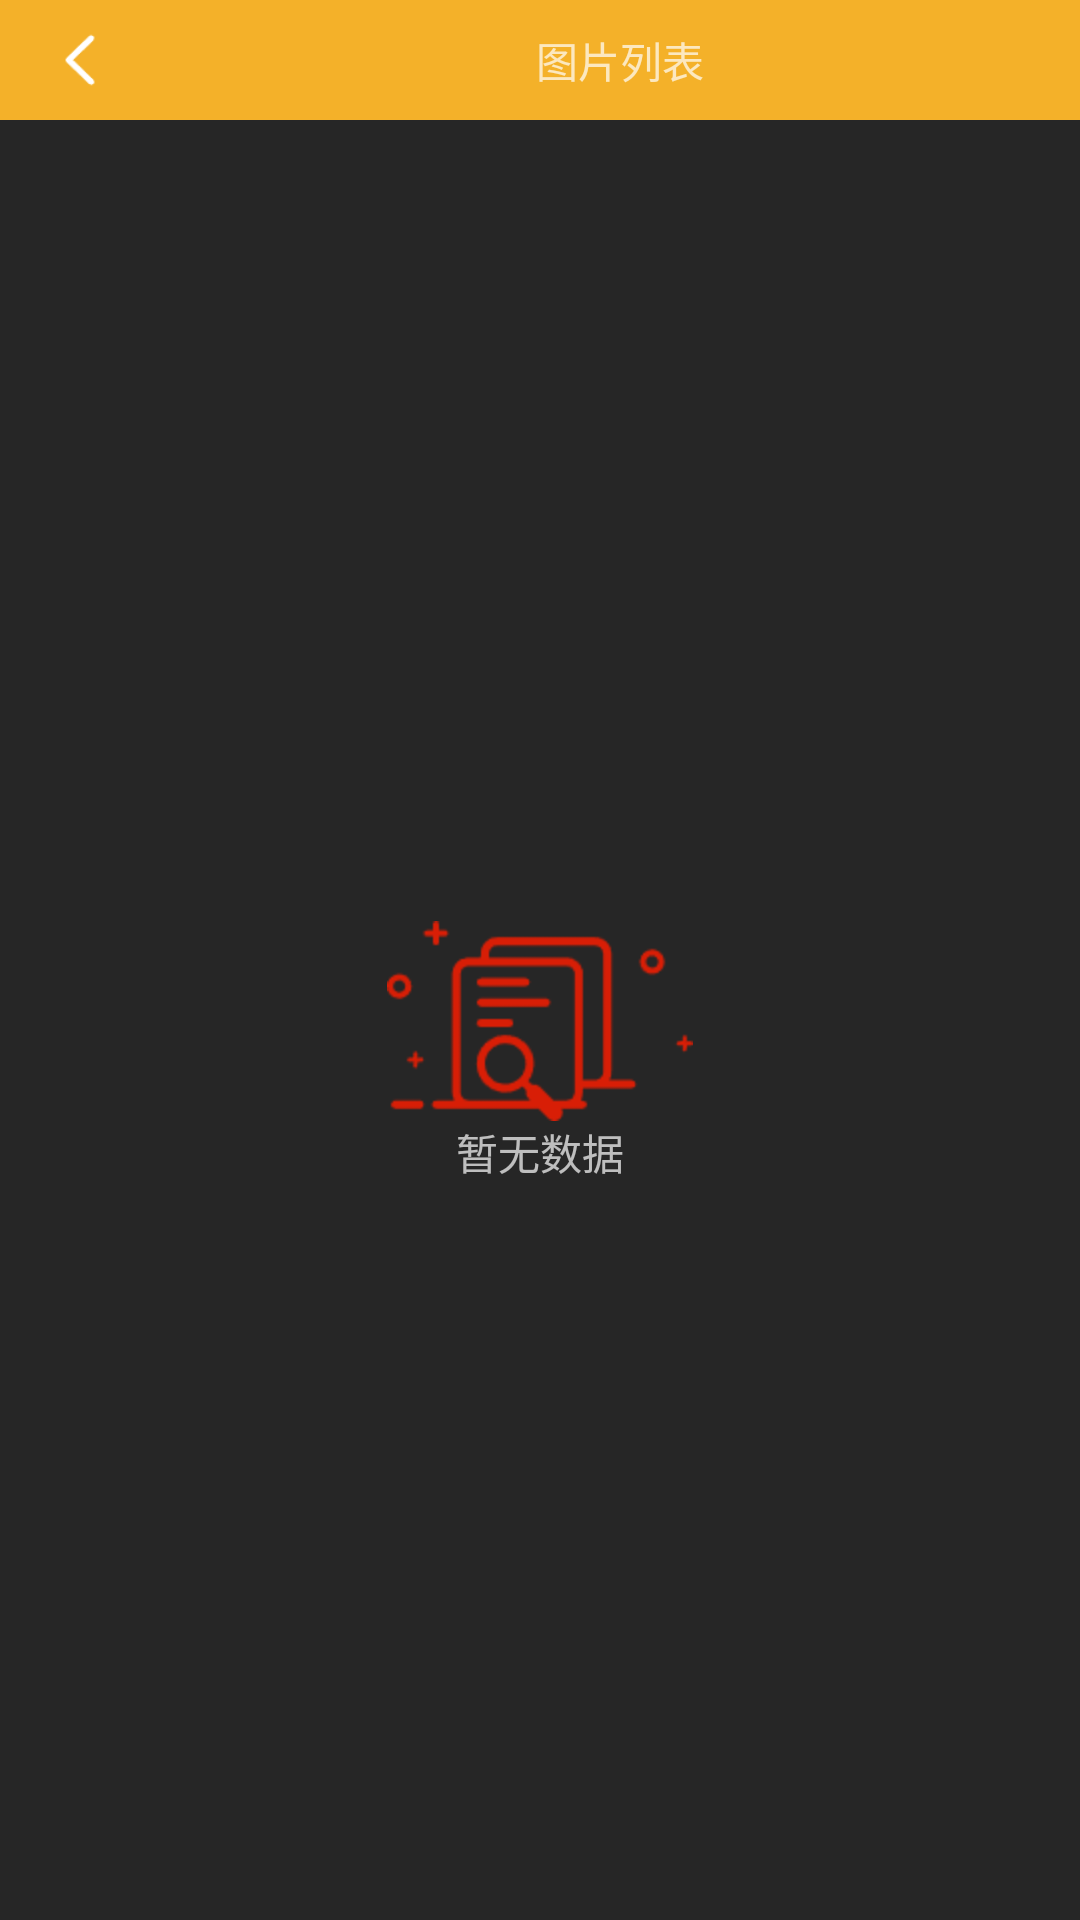

Point at icon controls on the screen. Image size 1080w x 1920h, points as point (x, y).
back: point (80, 60)
